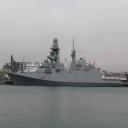Fragata: (6, 37, 125, 89)
